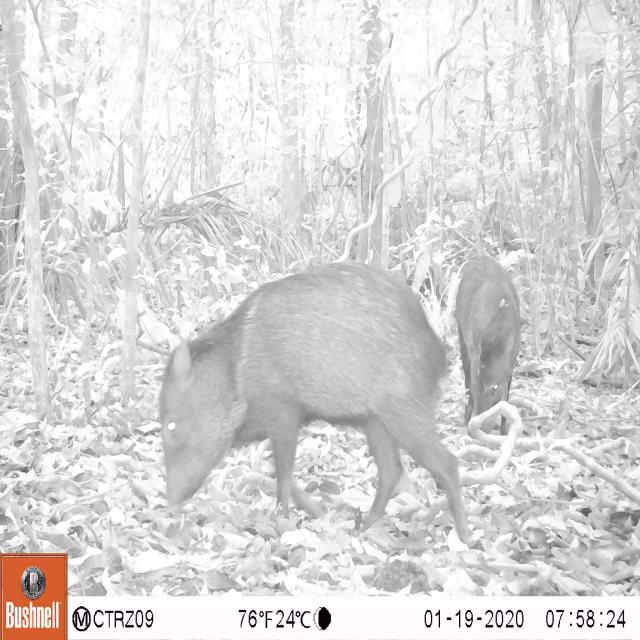Collared Peccary: (137, 255, 472, 551), (445, 234, 530, 431)
